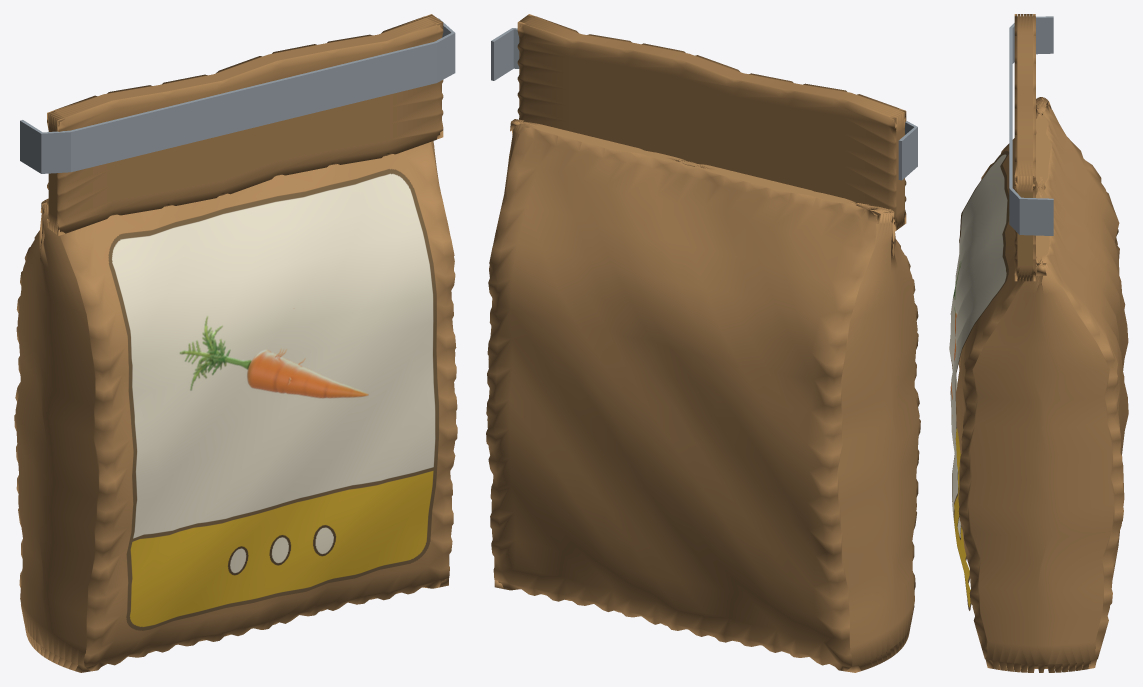
The model's file is carrot_seed.glb.
The picture shows the model from 3 angles, left to right: view 1: azimuth 30°, elevation 25°; view 2: azimuth 150°, elevation 25°; view 3: azimuth 270°, elevation 25°; orthographic projection. The views are drawn at different scales.
Parts seen in each view (by area): view 1: CarrotSeed_Label, CarrotSeed_Body, CarrotSeed_Fold, CarrotSeed_Tie; view 2: CarrotSeed_Body, CarrotSeed_Fold, CarrotSeed_Tie; view 3: CarrotSeed_Body, CarrotSeed_Label, CarrotSeed_Fold, CarrotSeed_Tie.
Part boxes in pixels (box(x1,y1,x2,y2)): CarrotSeed_Label: box(108, 169, 438, 630); CarrotSeed_Body: box(14, 141, 457, 672); CarrotSeed_Fold: box(47, 14, 443, 235); CarrotSeed_Tie: box(20, 18, 455, 173); CarrotSeed_Body: box(486, 119, 920, 672); CarrotSeed_Fold: box(517, 14, 906, 231); CarrotSeed_Tie: box(491, 28, 917, 180); CarrotSeed_Body: box(956, 97, 1128, 672); CarrotSeed_Label: box(949, 150, 1009, 610); CarrotSeed_Fold: box(1014, 14, 1035, 281); CarrotSeed_Tie: box(1009, 16, 1053, 235).
Size of the model in its own units: 0.0917 by 0.1152 by 0.0378.
4 materials, 1 textured.
